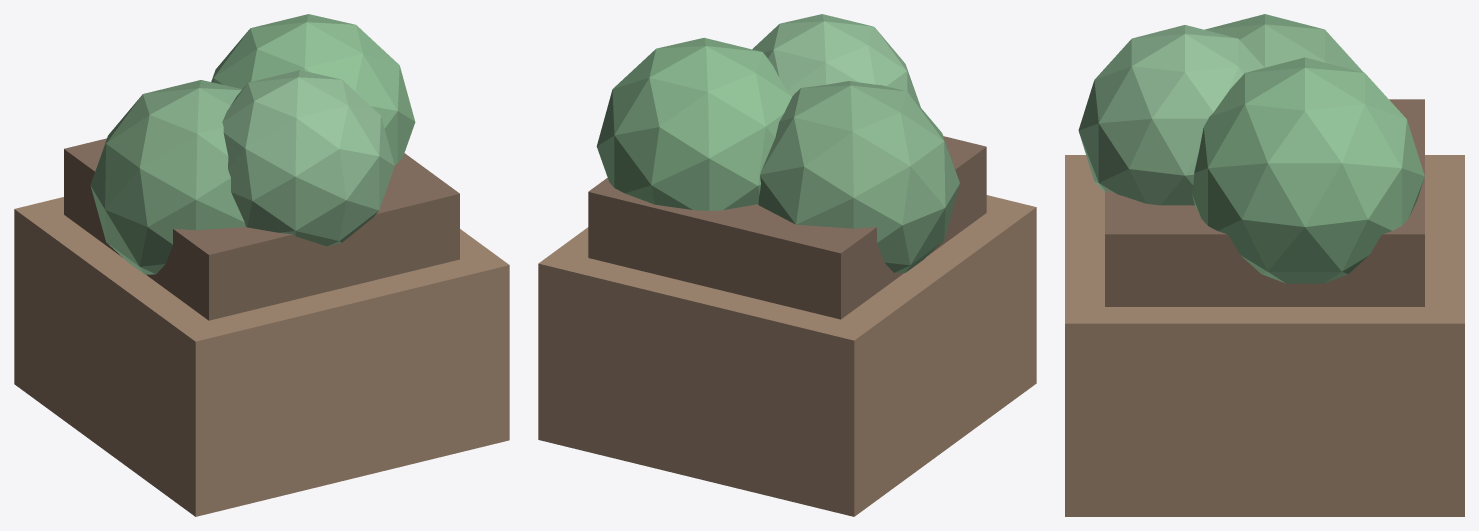
The model's file is flower_planter.glb.
The picture shows the model from 3 angles, left to right: view 1: azimuth 30°, elevation 25°; view 2: azimuth 150°, elevation 25°; view 3: azimuth 270°, elevation 25°; orthographic projection. The views are drawn at different scales.
Parts seen in each view (by area): view 1: world; view 2: world; view 3: world.
Part boxes in pixels (x1,y1,x2,y2): world: (14, 14, 509, 516); world: (538, 14, 1036, 516); world: (1065, 14, 1464, 516).
Bounding box in the file's own units: 0.3 × 0.33 × 0.3.
